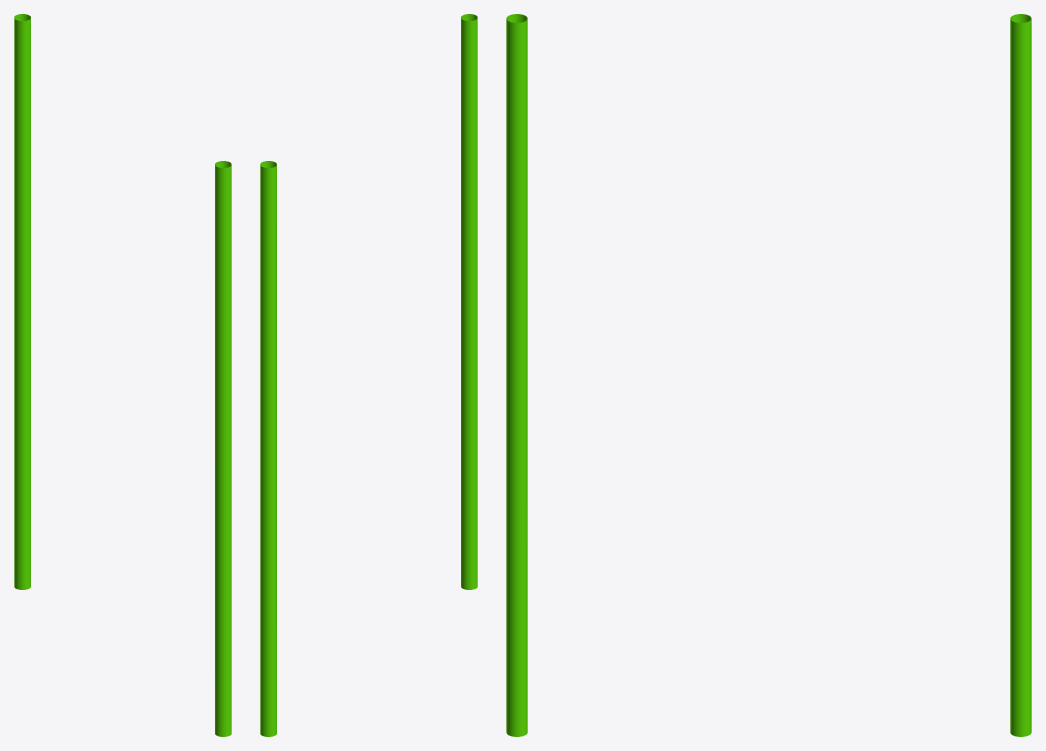
Rendered from cheakpoint.fbx.
3 views of the same model, side by side, from view 1: azimuth 30°, elevation 25°; view 2: azimuth 150°, elevation 25°; view 3: azimuth 270°, elevation 25° (orthographic). The views are drawn at different scales.
Parts seen in each view (by area): view 1: pCylinder1, pCylinder2; view 2: pCylinder1, pCylinder2; view 3: pCylinder1, pCylinder2.
Boxes of the visible parts, box(x1,y1,x2,y2) form: pCylinder1: box(14, 14, 30, 589); pCylinder2: box(215, 161, 231, 736); pCylinder1: box(260, 161, 276, 736); pCylinder2: box(461, 14, 477, 589); pCylinder1: box(1010, 14, 1031, 736); pCylinder2: box(506, 14, 527, 736).
Size of the model in its own units: 2.38 by 87.91 by 58.61.
Materials: 1 (1 with a texture image).
